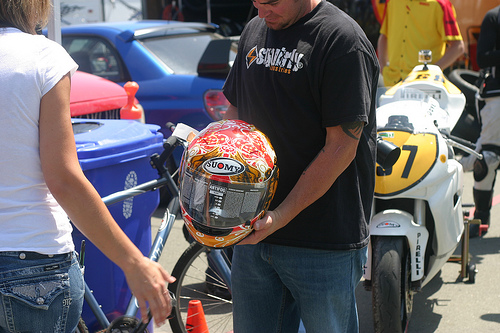helmet: (177, 127, 282, 243)
